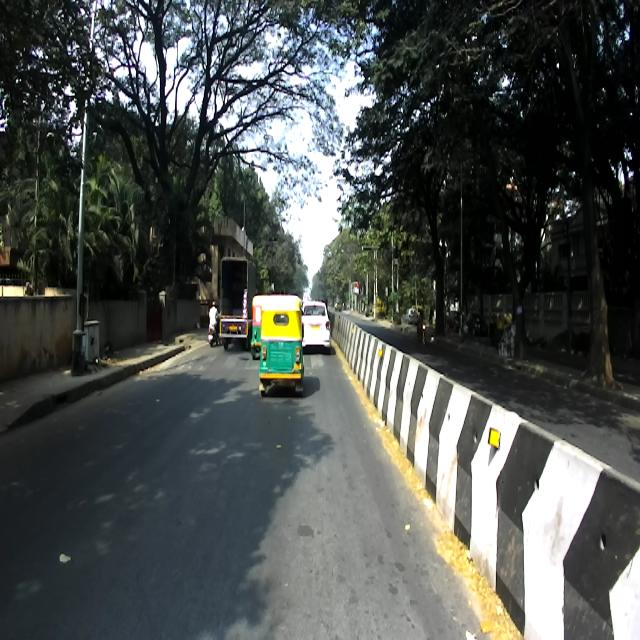auto ahead at: (260, 300, 304, 398)
